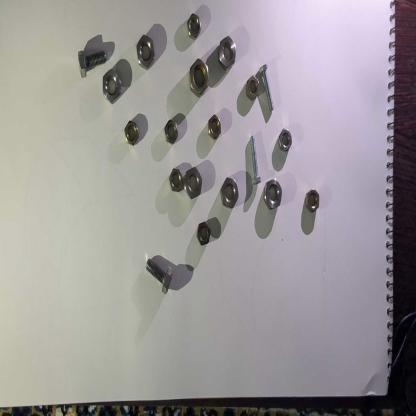Bolts: (142, 255, 176, 297), (75, 46, 107, 78), (245, 132, 262, 191), (257, 65, 276, 115)
NUTS: (214, 33, 239, 74), (188, 58, 212, 98), (100, 68, 122, 106), (134, 32, 156, 69), (182, 167, 204, 200), (264, 177, 283, 215), (220, 176, 240, 211), (161, 115, 182, 148), (304, 185, 324, 215), (206, 112, 222, 143), (124, 117, 140, 148), (187, 11, 202, 44), (168, 166, 184, 196), (196, 220, 212, 250), (245, 73, 261, 102), (277, 128, 293, 155)
